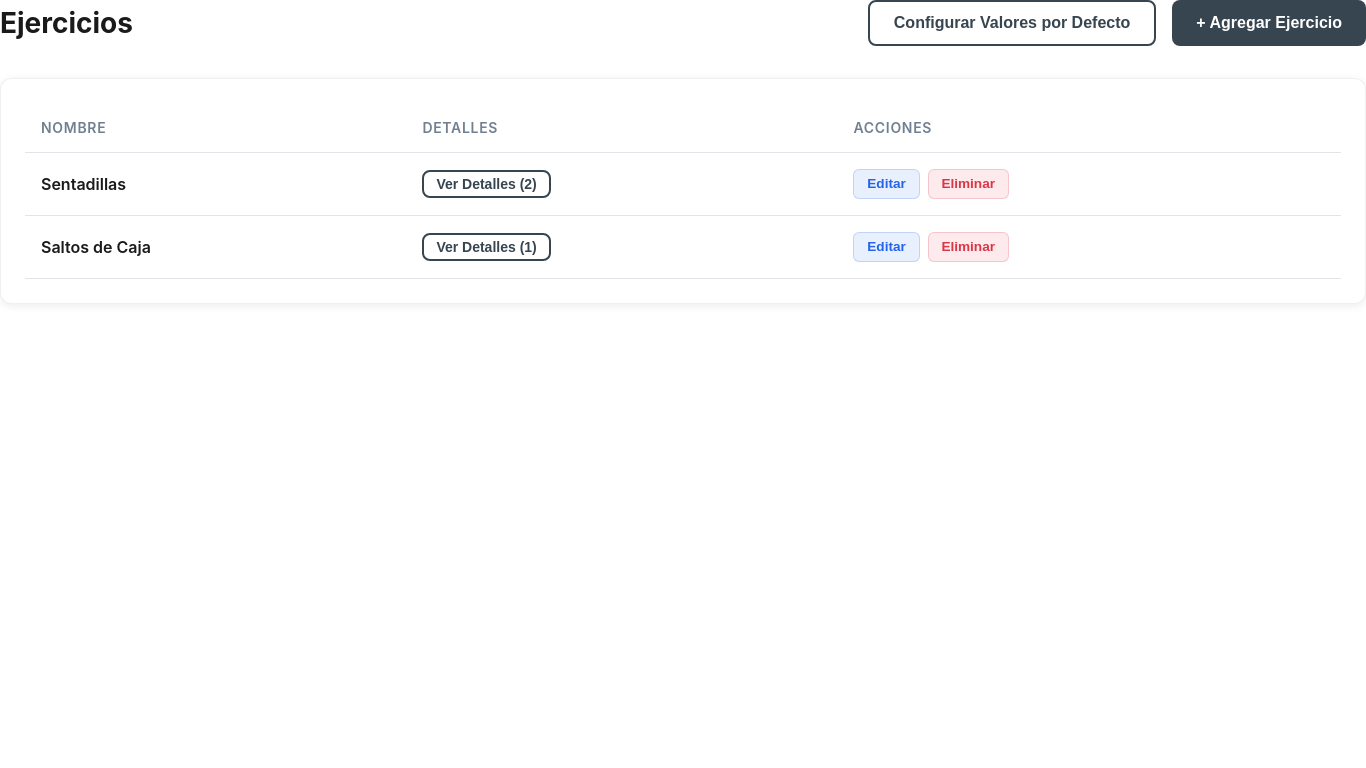
Test: ExercisesPage › permite eliminar un campo
Click the button "+ Agregar Ejercicio".
click(1269, 23)  # box [1172, 0, 1365, 46]
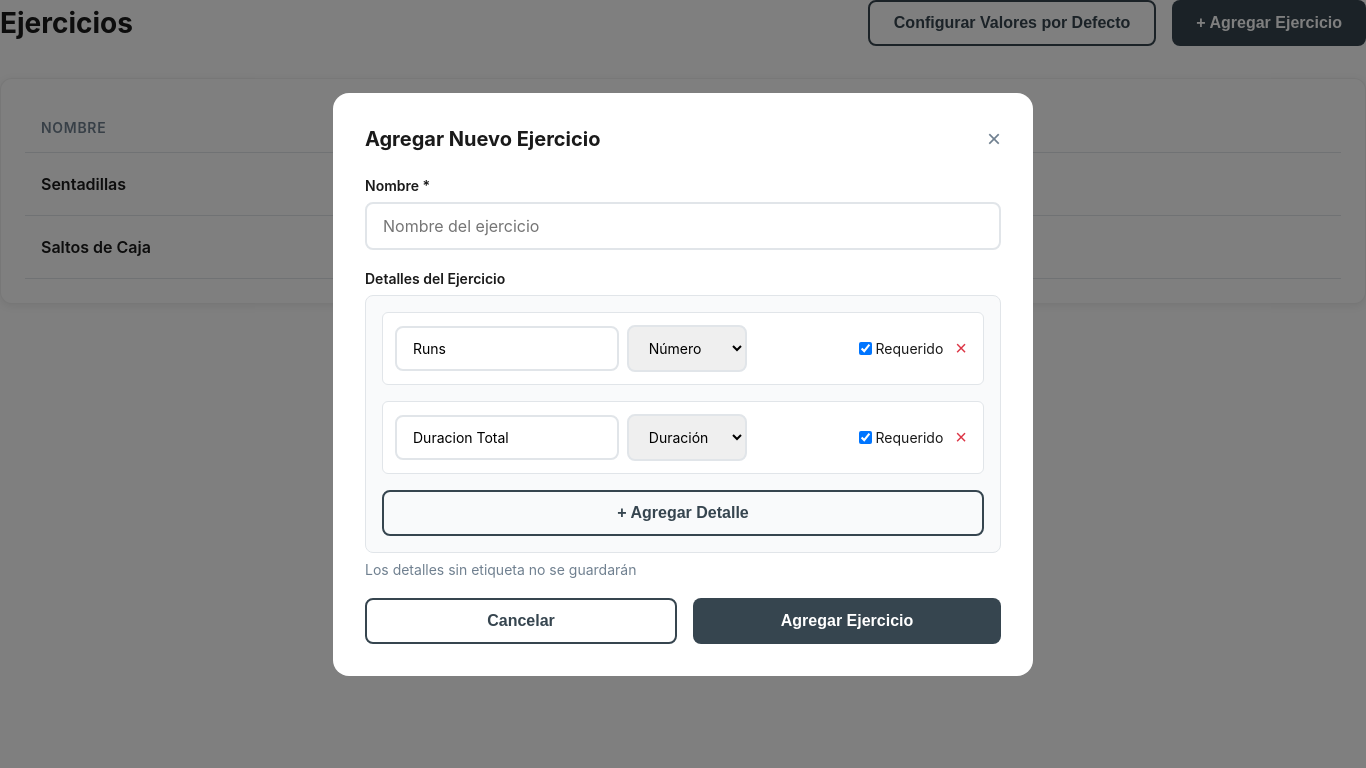
Now the 2nd button titled "Eliminar campo" is shown
Click the 2nd button titled "Eliminar campo".
click(961, 348)  # box [951, 332, 971, 364]
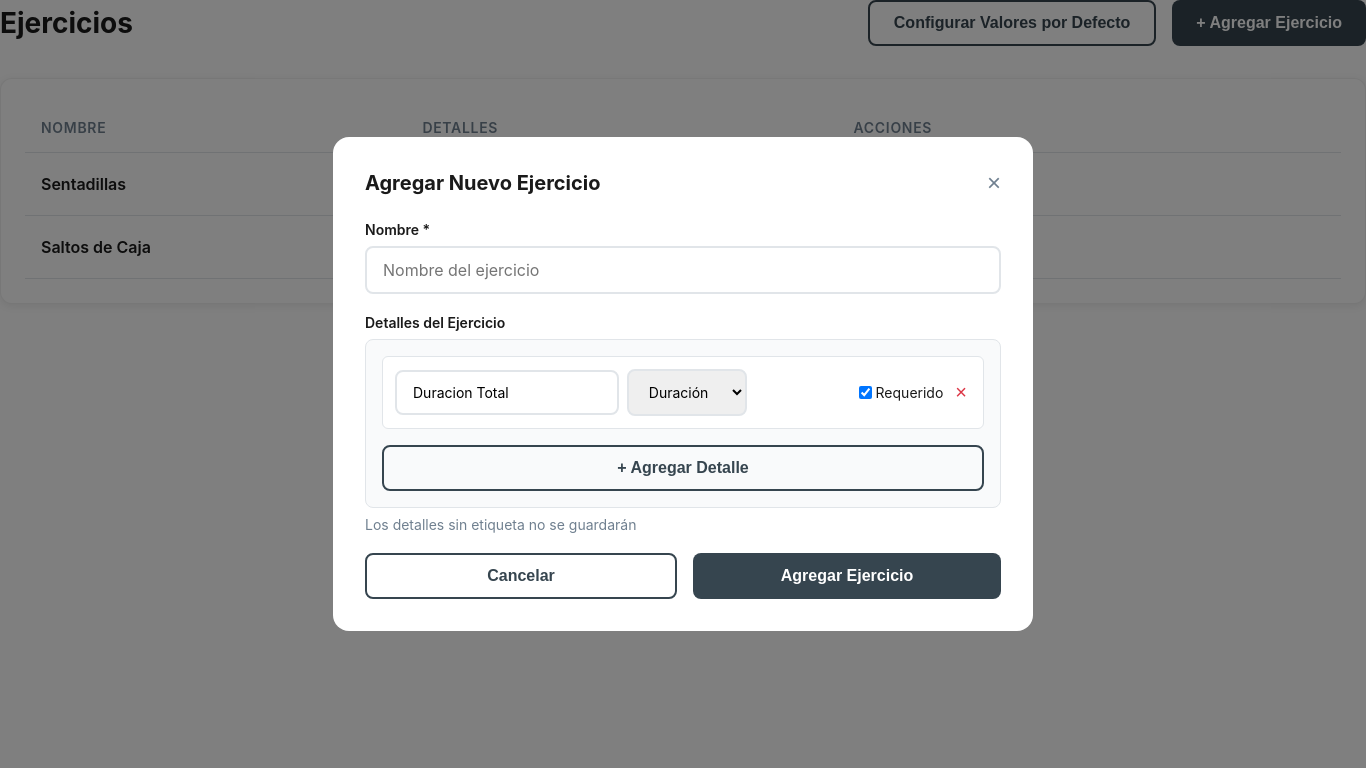
Now the number of buttons titled "Eliminar campo" is 1, box [951, 377, 971, 408]
